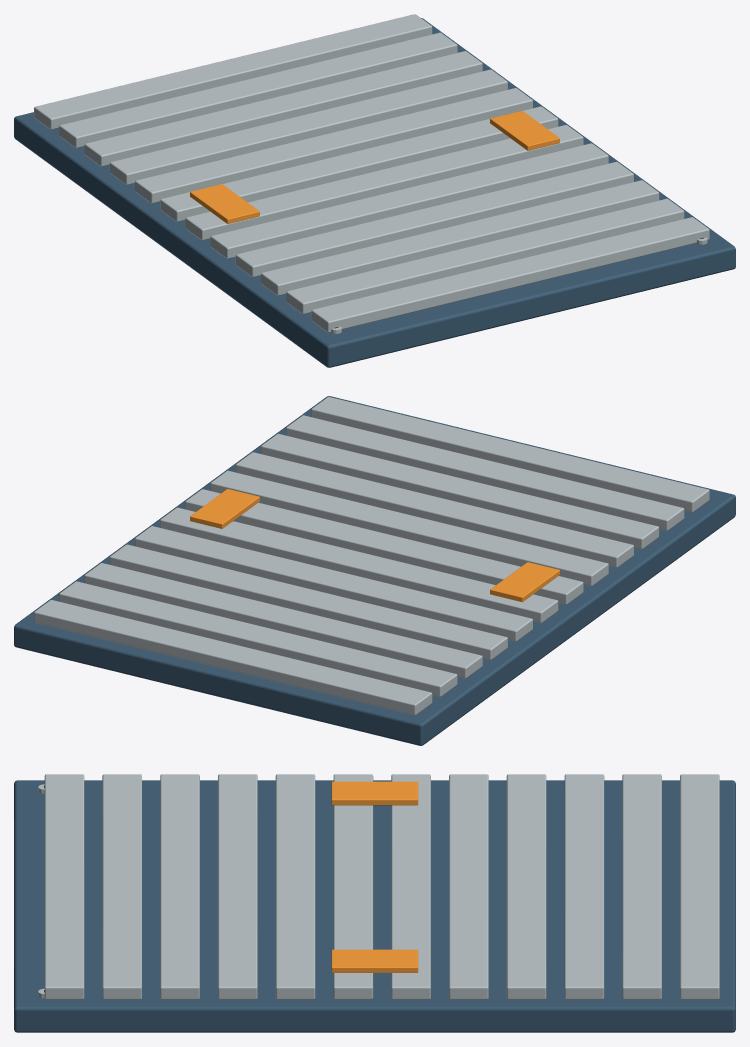
File: container-inspection-and-customs-yard-container-inspec-8f474ce6__29322.glb
3 views of the same model, one above another, from view 1: azimuth 30°, elevation 25°; view 2: azimuth 150°, elevation 25°; view 3: azimuth 270°, elevation 25° (orthographic). The views are drawn at different scales.
Visible parts, largest first — view 1: container-inspection-and-customs-yard-inspection-pit-cover; view 2: container-inspection-and-customs-yard-inspection-pit-cover; view 3: container-inspection-and-customs-yard-inspection-pit-cover.
Boxes of the visible parts, x1,y1,x2,y2 form: container-inspection-and-customs-yard-inspection-pit-cover: (14,14,735,367); container-inspection-and-customs-yard-inspection-pit-cover: (14,396,735,745); container-inspection-and-customs-yard-inspection-pit-cover: (14,774,735,1032).
Bounding box in the file's own units: 1.5 × 0.1381 × 2.
